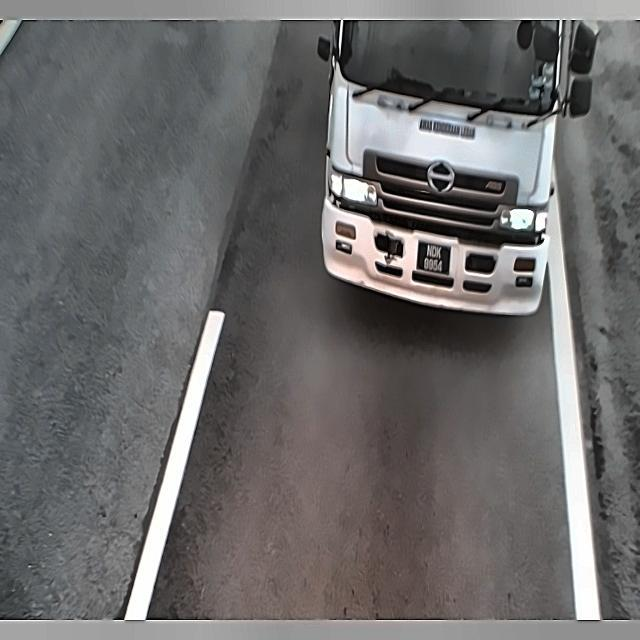car: (414, 237, 456, 281)
